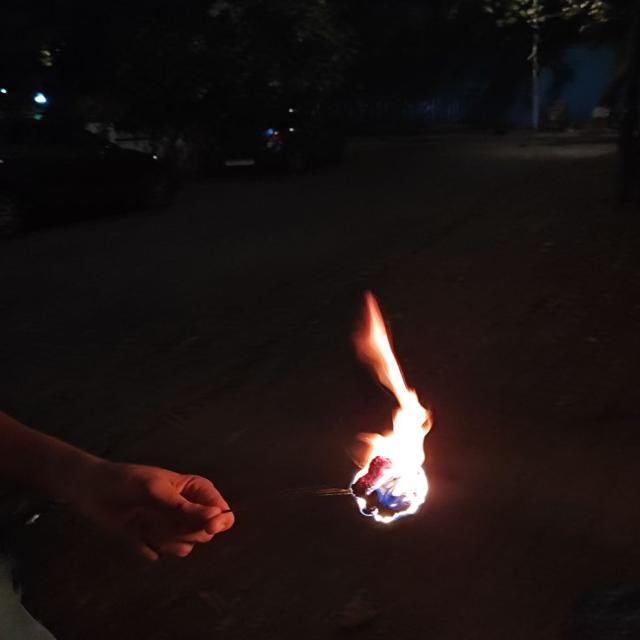fire: (350, 293, 430, 523)
